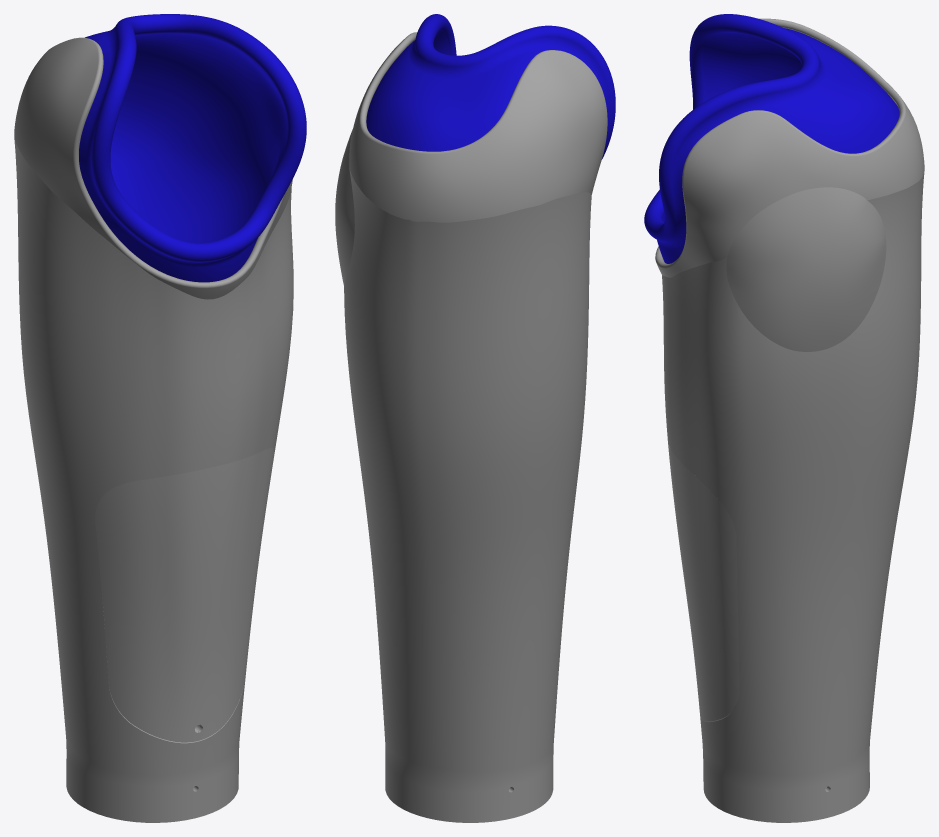
The model's file is WithCap.glb.
The picture shows the model from 3 angles, left to right: view 1: azimuth 30°, elevation 25°; view 2: azimuth 150°, elevation 25°; view 3: azimuth 270°, elevation 25°; orthographic projection. The views are drawn at different scales.
Parts seen in each view (by area): view 1: 3, IS Korneev, OS KorneevCAP; view 2: 3, IS Korneev; view 3: 3, IS Korneev, OS KorneevCAP.
Boxes of the visible parts, box(x1,y1,x2,y2) form: 3: box(14, 37, 293, 822); IS Korneev: box(79, 14, 306, 282); OS KorneevCAP: box(95, 447, 274, 742); 3: box(335, 32, 607, 822); IS Korneev: box(366, 14, 615, 158); 3: box(655, 18, 924, 822); IS Korneev: box(644, 14, 899, 263); OS KorneevCAP: box(667, 440, 739, 721).
Bounding box in the file's own units: 88.5 × 275 × 93.35.
